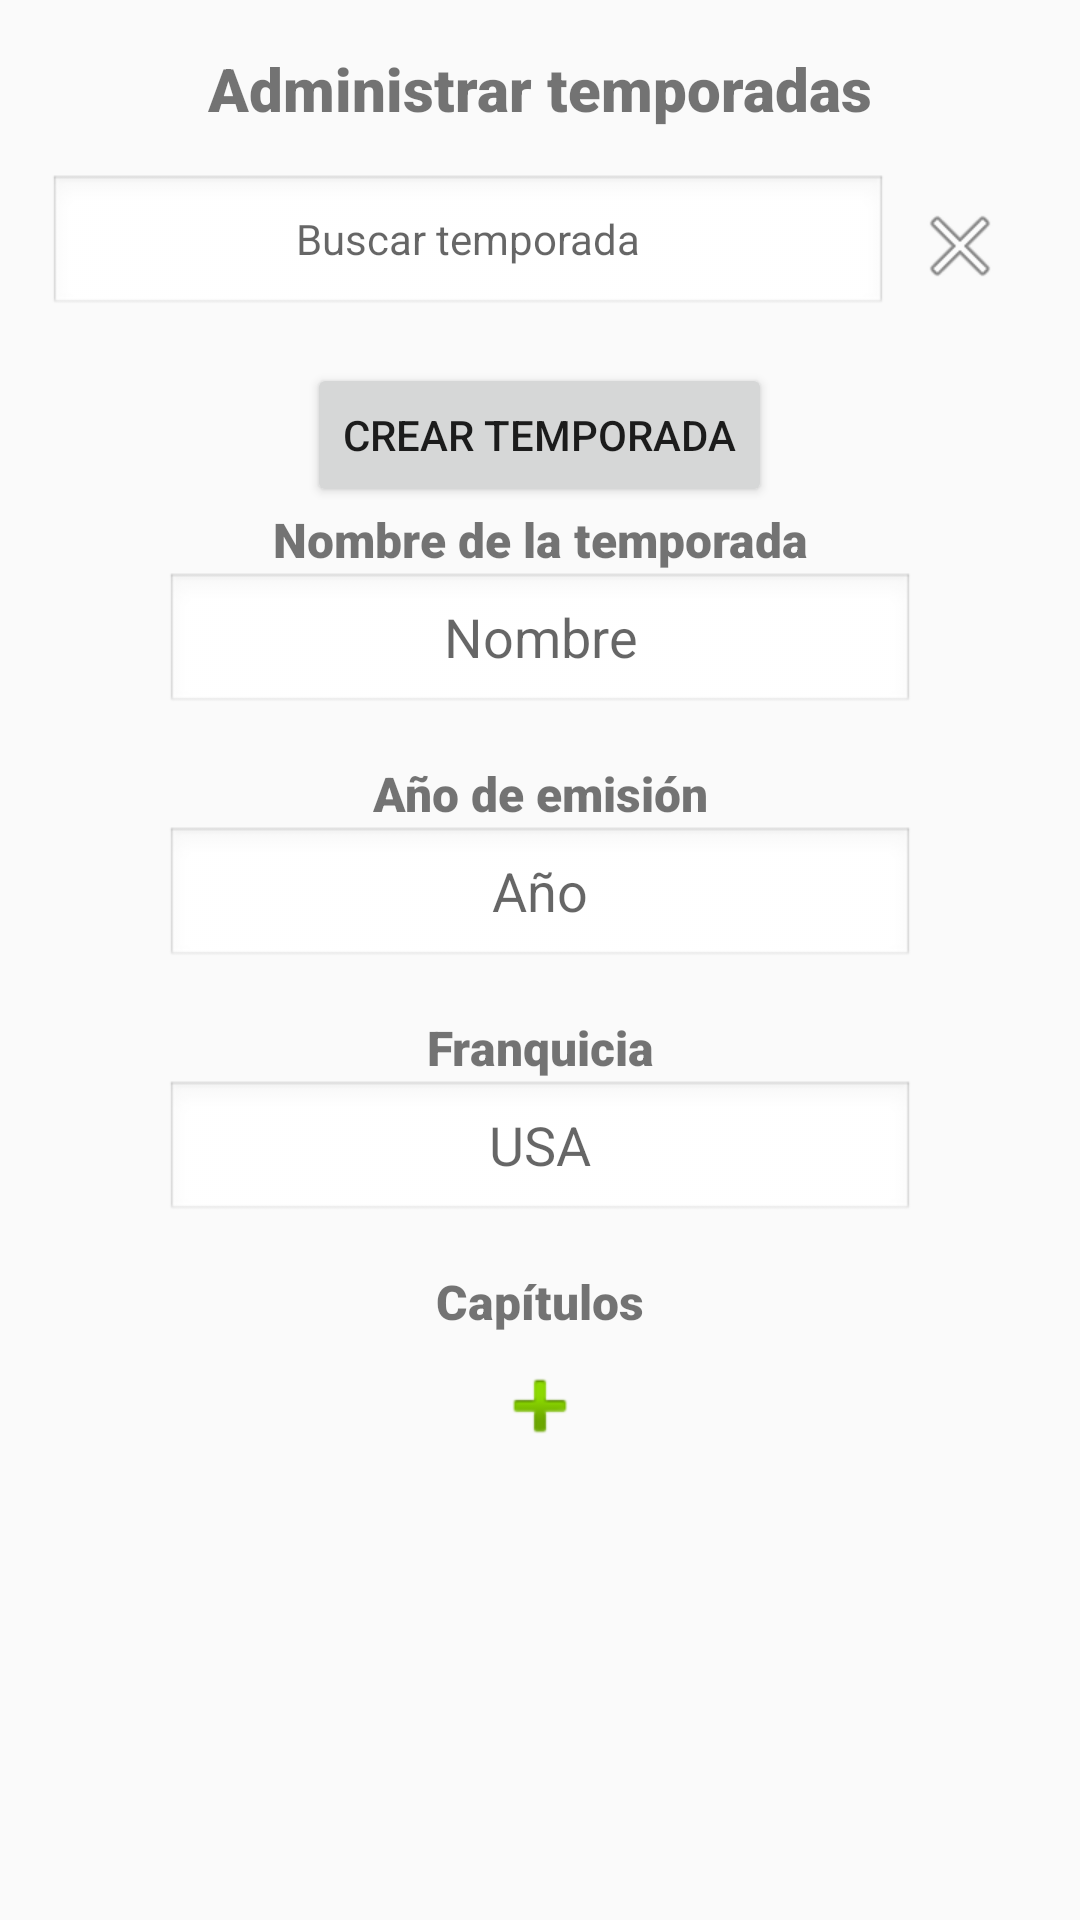

Icons on this 1080px×1920px Android screen, each with its box as (x1,y1,x2,y2):
Añadir capítulo: (513,1379,567,1433)
Resetear: (930,216,990,276)
